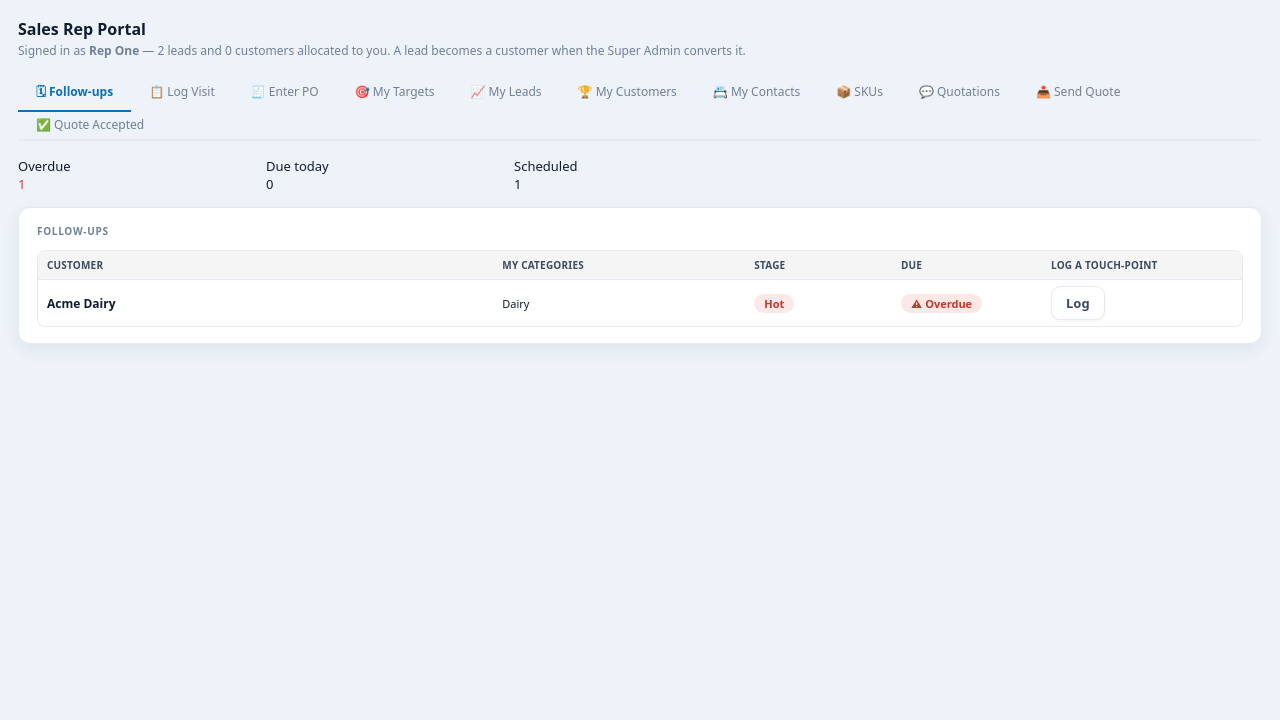
Test case: Rep Portal — add customer › refuses to save without a category, and does not write
Expected: the text "Sales Rep Portal" is shown, 18,18 -> 146,40
Click the text with class "step-tab" showing "📈 My Leads" at [506, 92], box 470,83 -> 542,100
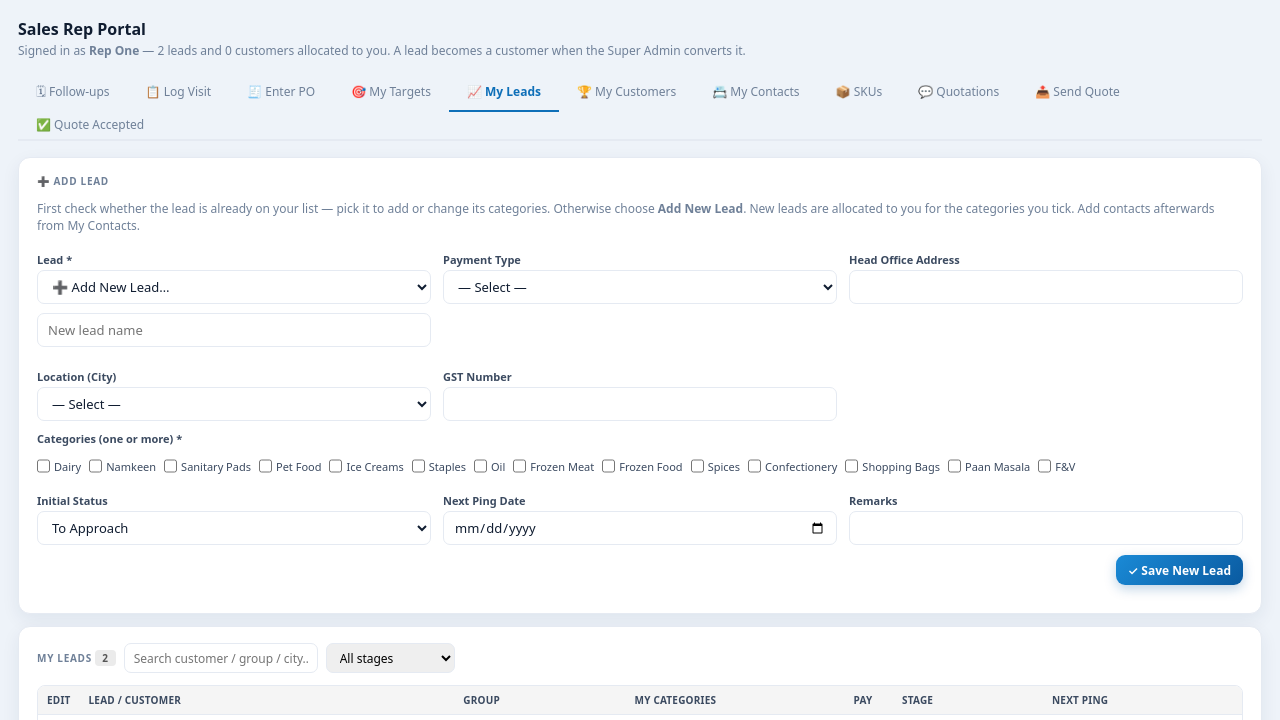
Type "No Category Ltd" into the field labelled "lead name" at [234, 330], box 37,313 -> 431,347
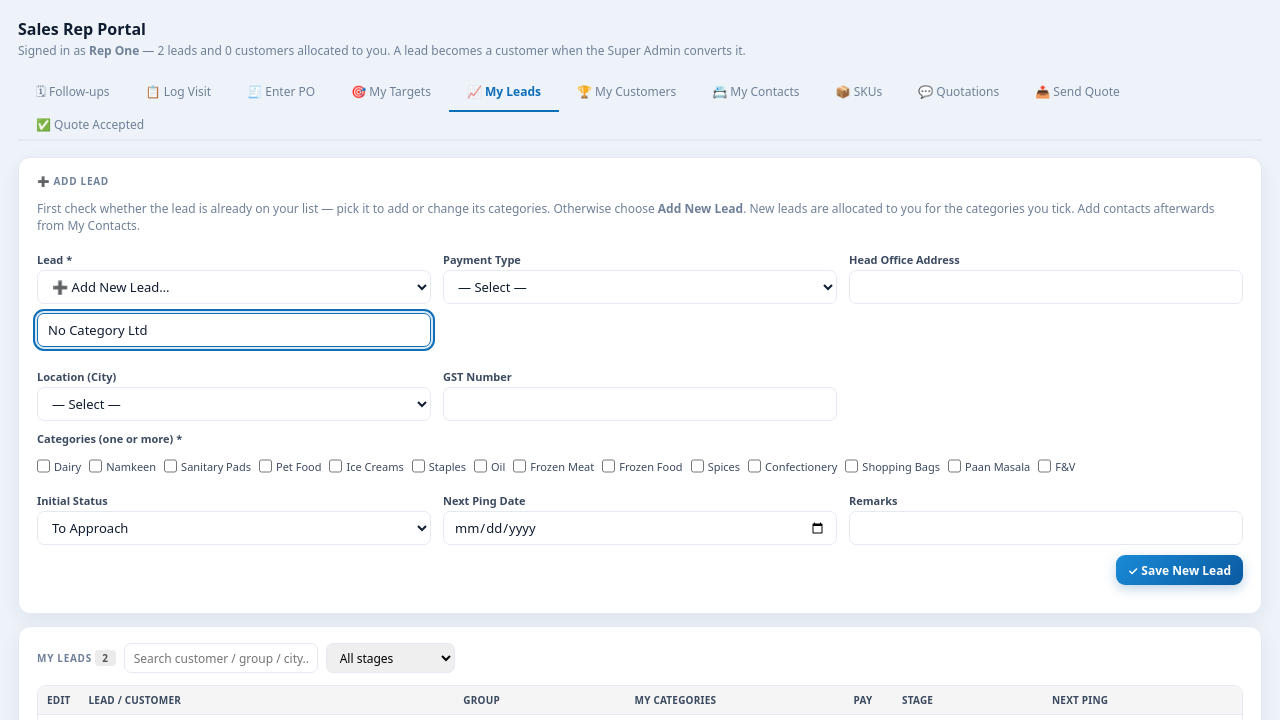
Click the button "✓ Save New Lead" at [1179, 570], box 1116,555 -> 1243,585
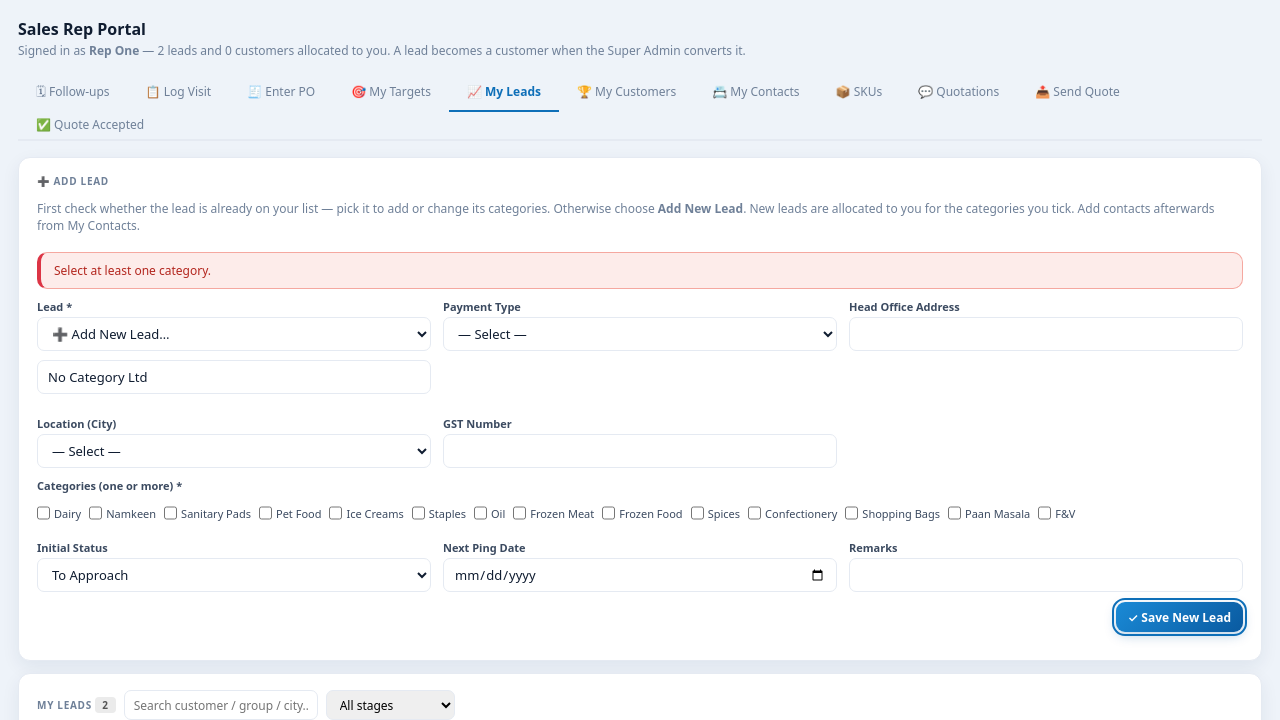
Expected: the text "Select at least one category." is shown, 37,252 -> 1243,289
